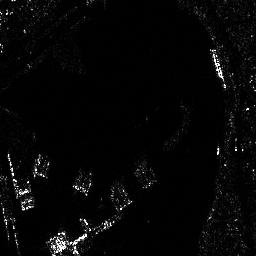ship: (210, 46, 225, 81)
